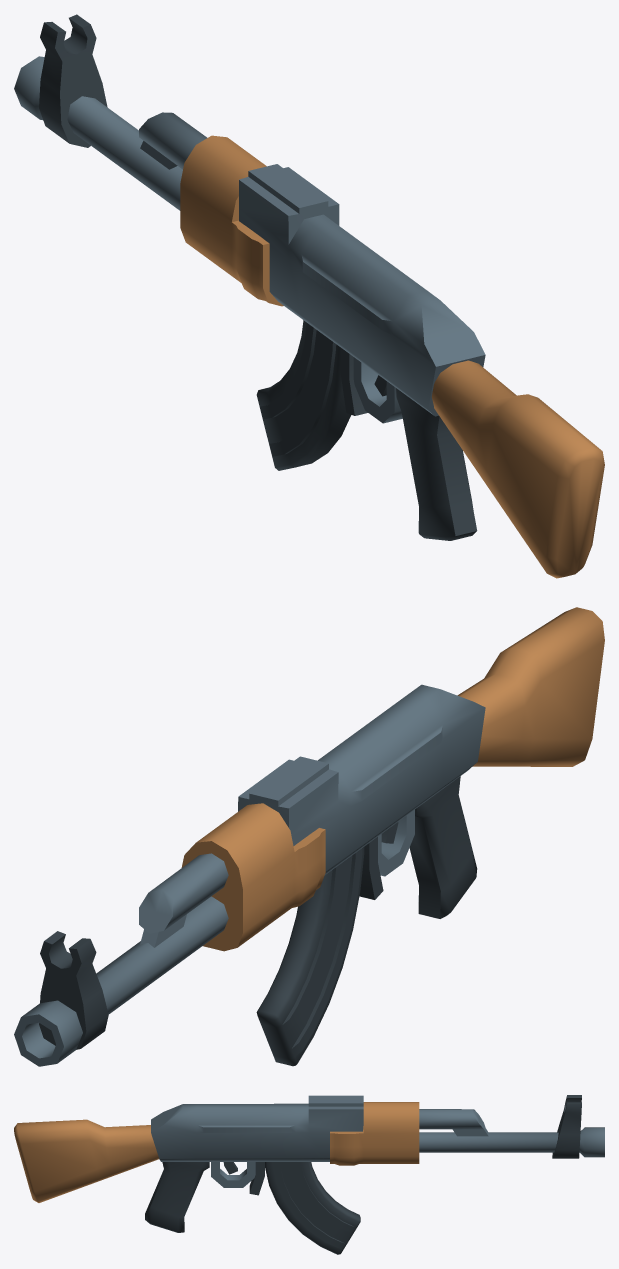
3 views of the same model, one above another, from view 1: azimuth 30°, elevation 25°; view 2: azimuth 150°, elevation 25°; view 3: azimuth 270°, elevation 25° (orthographic). The views are drawn at different scales.
Visible parts, largest first — view 1: AK-47; view 2: AK-47; view 3: AK-47.
Boxes of the visible parts, bbox=[...] form: AK-47: bbox=[14, 14, 604, 578]; AK-47: bbox=[14, 607, 604, 1066]; AK-47: bbox=[14, 1095, 604, 1254].
Bounding box in the file's own units: 4.87 × 19.59 × 68.45.
